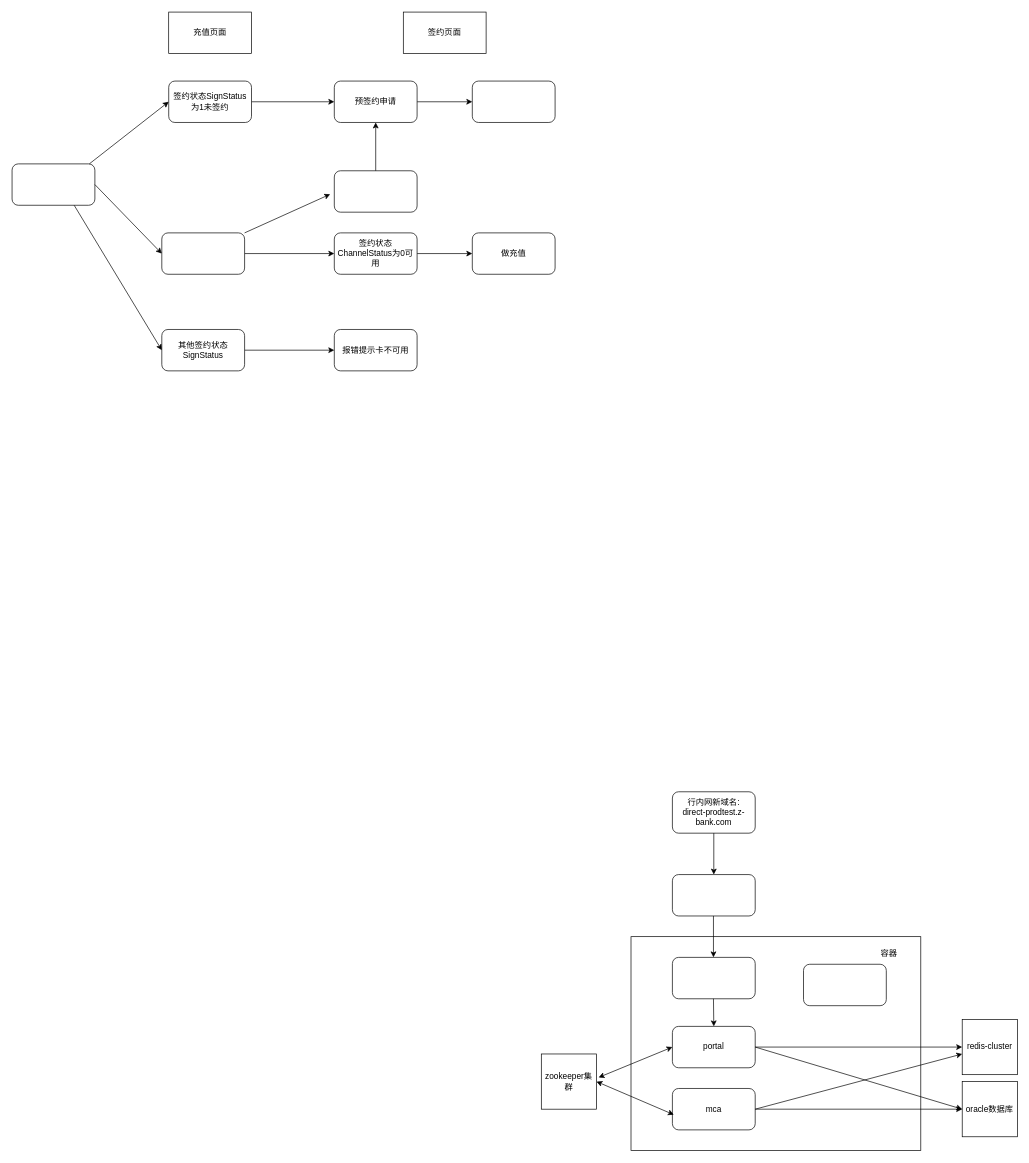
Some shapes in this 1029 by 1163 pixel diagram are drawn without their labels. The shapes that lost their labels are listed below. From the top down, each one's centre as x and y in pixels, then its label:
At (513,101): "协议支付签约".
At (53,184): "充值前 协议支付签约查询".
At (375,191): "签约状态ChannelStatus为1维护中，2不可用".
At (203,253): "签约状态SignStatus为0已签约".
At (713,895): "nginx".
At (713,978): "容器域名: direct-portal.paas2prod.z-bank.com".
At (844,985): "nas".
